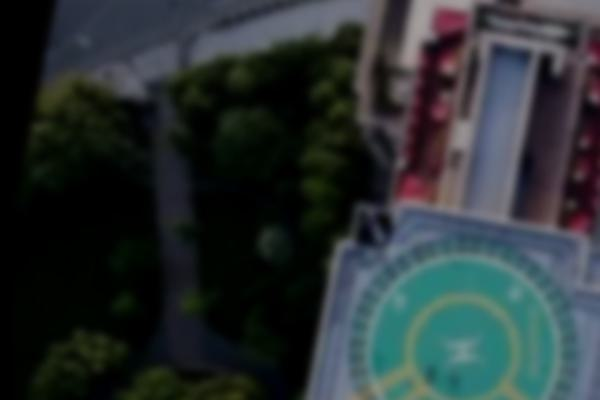Apron: (407, 297, 511, 385)
